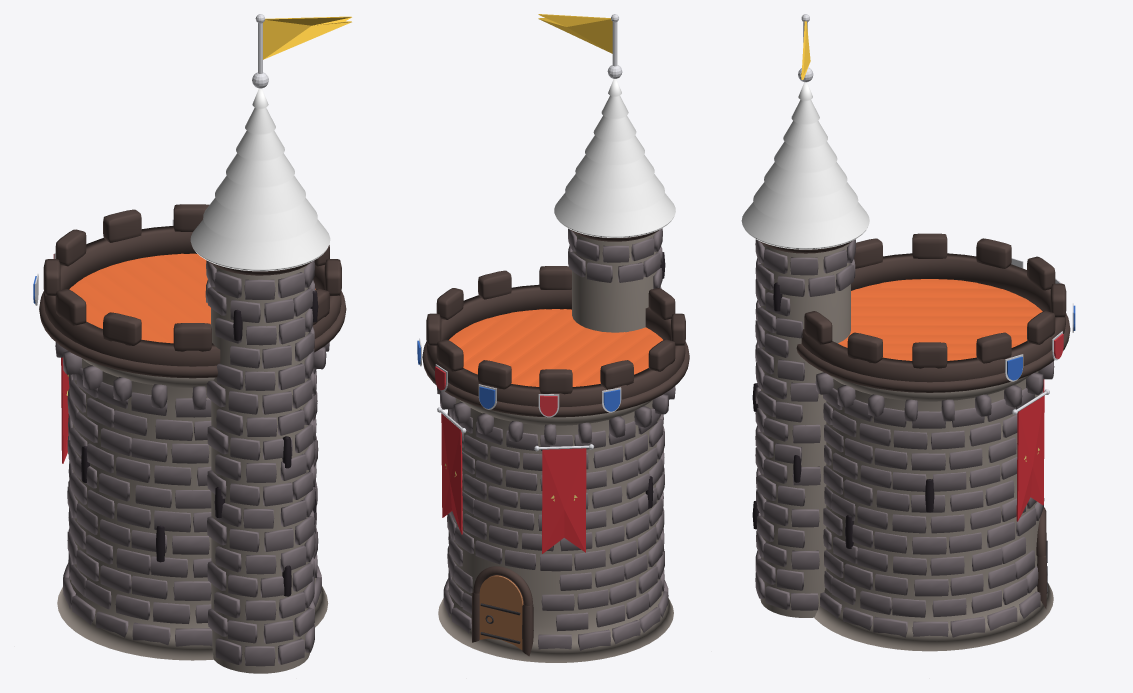
File: ArcherTower.obj
The picture shows the model from 3 angles, left to right: view 1: azimuth 30°, elevation 25°; view 2: azimuth 150°, elevation 25°; view 3: azimuth 270°, elevation 25°; orthographic projection. The views are drawn at different scales.
Parts seen in each view (by area): view 1: Stone, Mortar, Trim, Roof, Deck, Flag, Window, Pole, Banner; view 2: Stone, Mortar, Trim, Roof, Deck, Banner, Wood, Flag, Pole, ShieldA, ShieldB; view 3: Stone, Mortar, Trim, Deck, Roof, Banner, Window, Pole.
Part boxes in pixels (box(x1,y1,x2,y2)): Stone: box(55, 260, 329, 666); Mortar: box(57, 265, 328, 673); Trim: box(39, 204, 346, 378); Roof: box(190, 88, 330, 271); Deck: box(69, 253, 315, 343); Flag: box(263, 16, 351, 59); Window: box(81, 291, 318, 596); Pole: box(35, 14, 268, 305); Banner: box(61, 357, 69, 463); Stone: box(436, 228, 675, 650); Mortar: box(438, 232, 673, 662); Trim: box(422, 229, 689, 656); Roof: box(554, 79, 675, 237); Deck: box(449, 309, 662, 386); Banner: box(441, 413, 586, 553); Wood: box(479, 575, 523, 649); Flag: box(538, 14, 612, 53); Pole: box(419, 14, 622, 451); ShieldA: box(417, 340, 620, 411); ShieldB: box(435, 366, 557, 416); Stone: box(755, 239, 1054, 637); Mortar: box(760, 243, 1053, 651); Trim: box(759, 233, 1070, 608); Deck: box(838, 279, 1042, 360); Roof: box(741, 82, 869, 249); Banner: box(1016, 379, 1044, 521); Window: box(752, 282, 934, 548); Pole: box(798, 14, 1073, 414).
Size of the model in its own units: 20.43 by 34.84 by 20.43.
